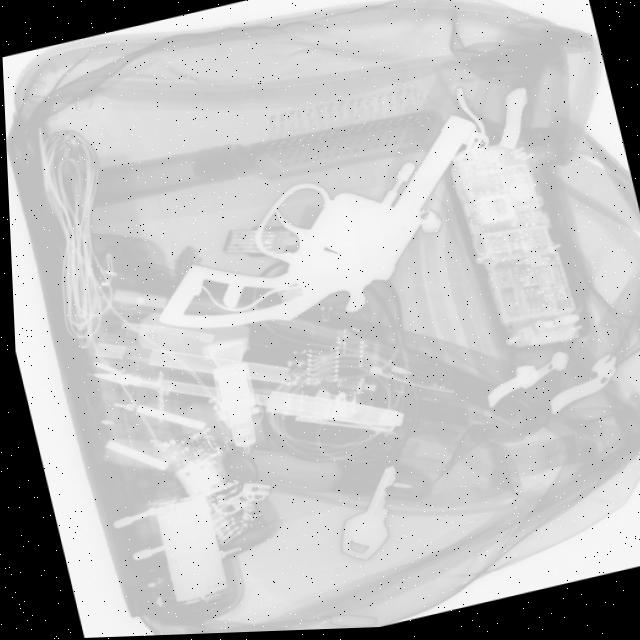pistol: (126, 111, 512, 355)
